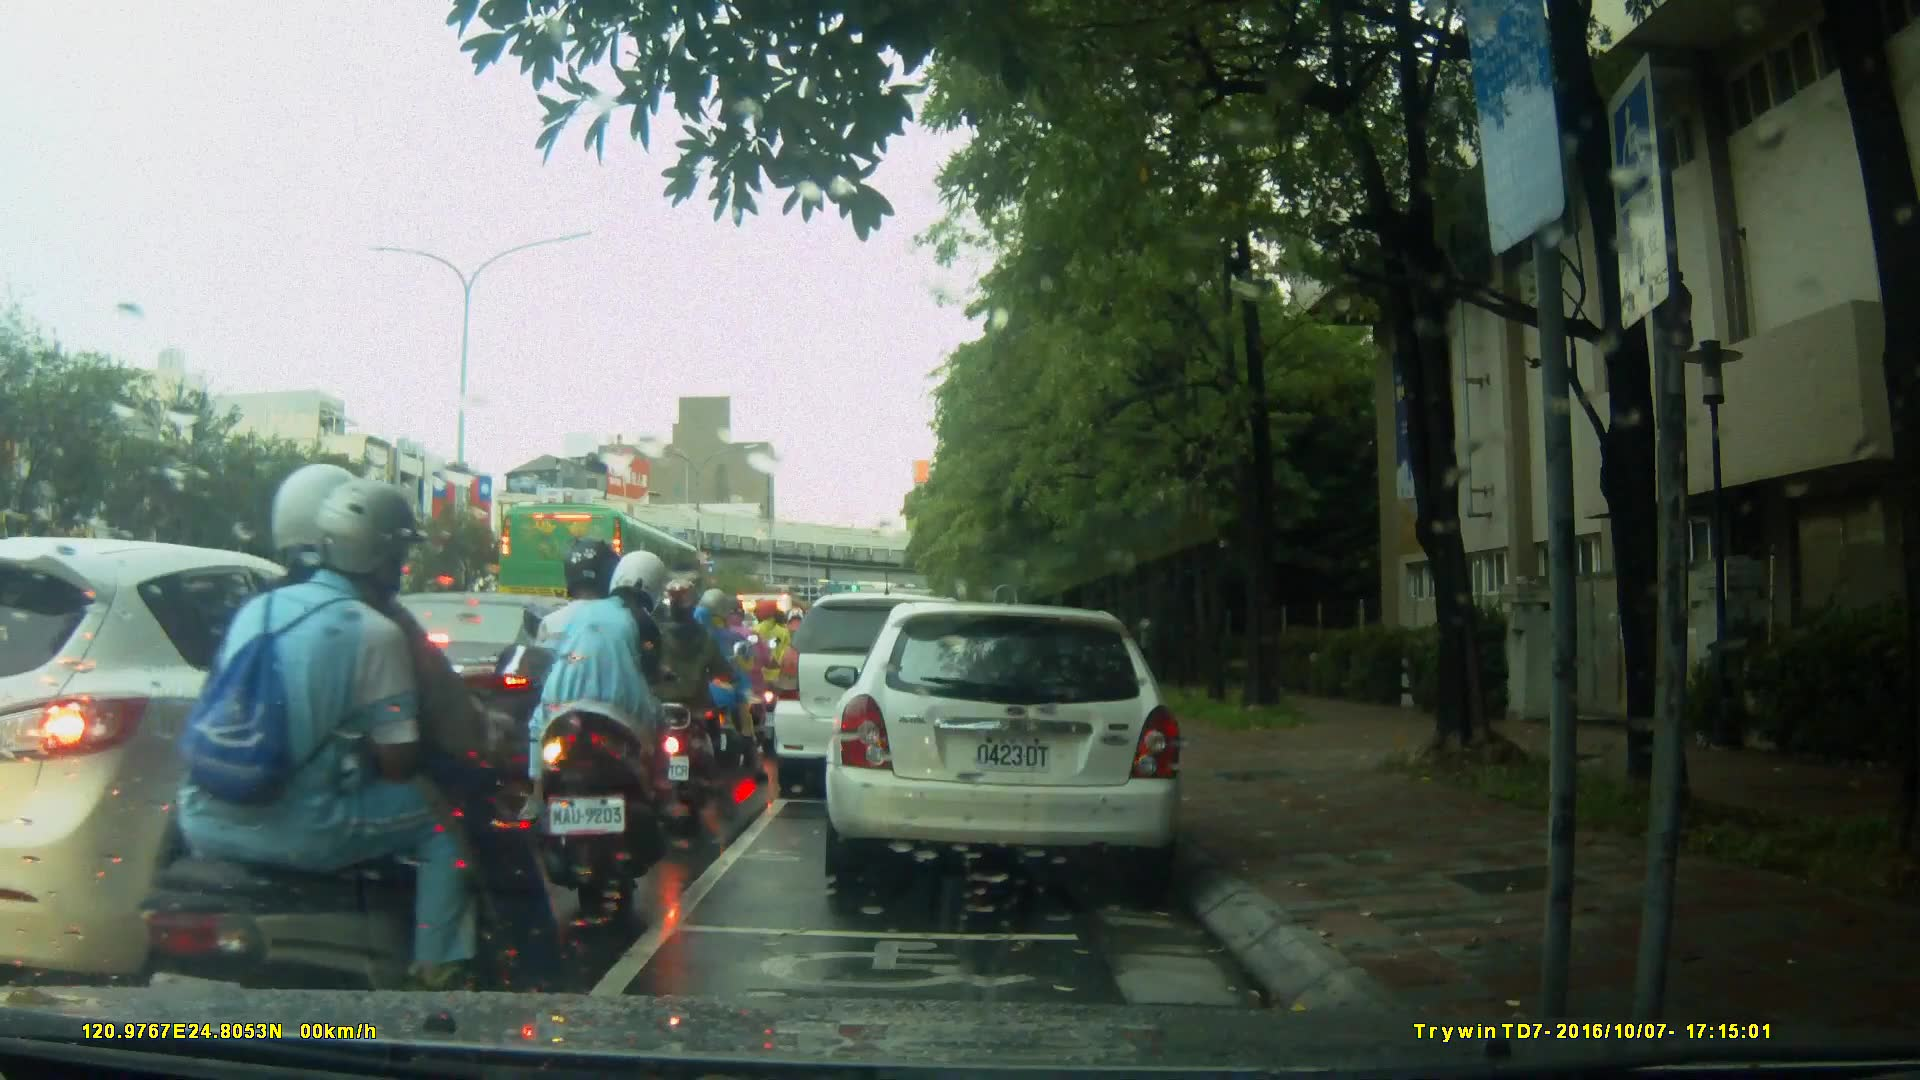rider: (133, 463, 575, 1069), (525, 538, 699, 920), (634, 577, 730, 819), (679, 589, 762, 780), (701, 598, 774, 764), (748, 598, 797, 737)
vehicle: (3, 536, 462, 987), (831, 592, 1196, 897), (312, 589, 629, 776), (772, 590, 999, 803), (495, 500, 711, 636)
